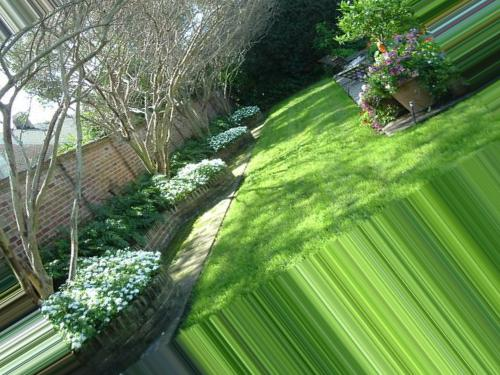patch: (200, 217, 212, 237)
